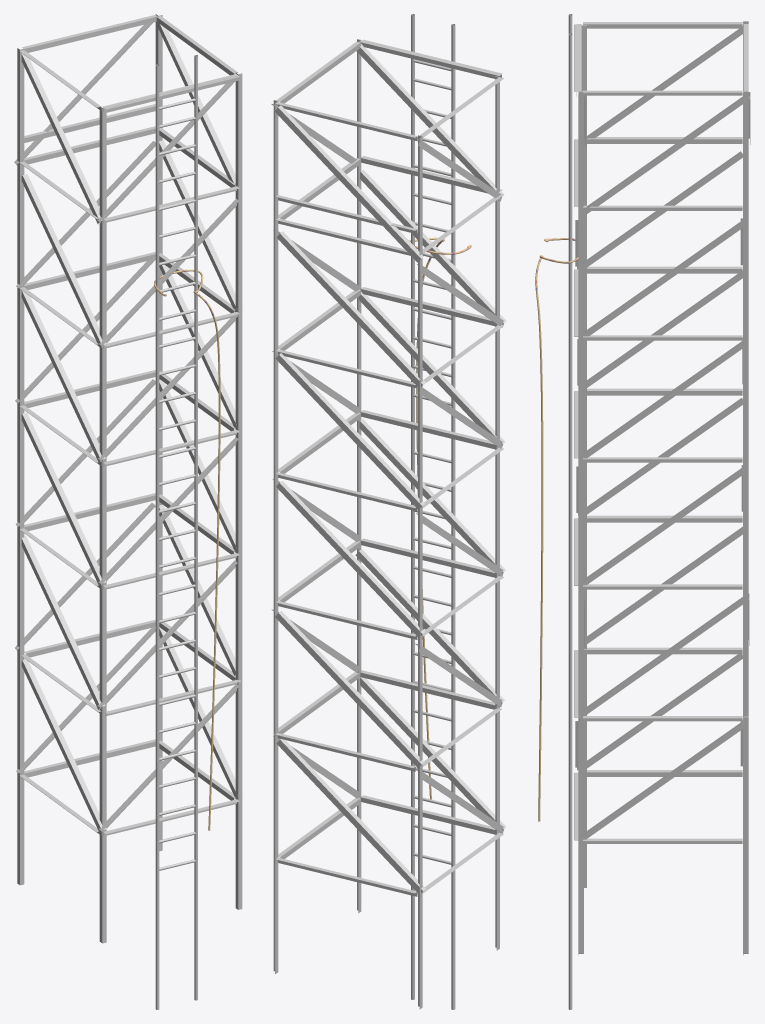
Rendered from Torre Sujeción.fbx.
3 views of the same model, side by side, from view 1: azimuth 30°, elevation 25°; view 2: azimuth 150°, elevation 25°; view 3: azimuth 270°, elevation 25° (orthographic). The views are drawn at different scales.
Parts seen in each view (by area): view 1: Plane, NurbsPath; view 2: Plane, NurbsPath; view 3: Plane, NurbsPath.
Part boxes in pixels (box(x1,y1,x2,y2)): Plane: box(14, 14, 242, 1009); NurbsPath: box(154, 269, 220, 830); Plane: box(271, 14, 506, 1009); NurbsPath: box(409, 237, 471, 799); Plane: box(568, 14, 750, 1009); NurbsPath: box(535, 238, 578, 821).
Size of the model in its own units: 685 by 4242 by 849.
